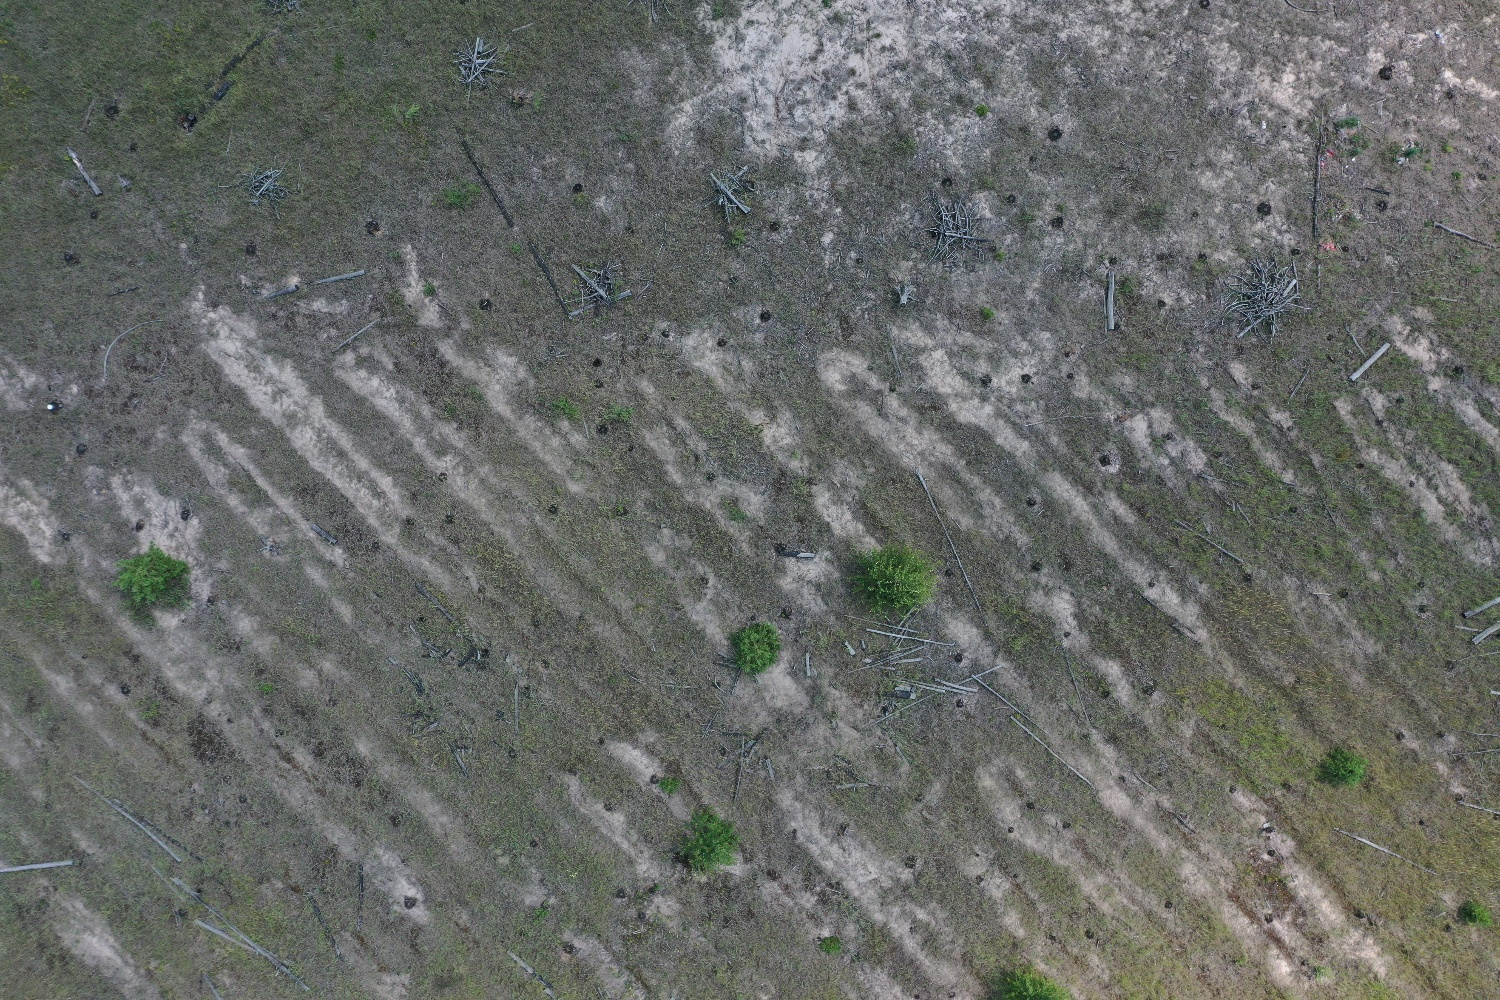branches: (1221, 254, 1312, 343), (924, 199, 993, 268), (568, 259, 633, 319), (703, 166, 760, 225), (451, 37, 509, 92), (244, 167, 291, 221)
